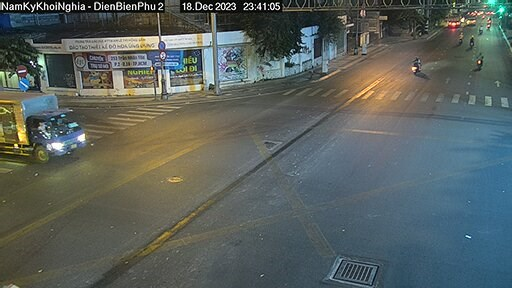motorbike: (408, 55, 423, 78), (473, 50, 483, 69)
truck: (5, 86, 108, 165)
